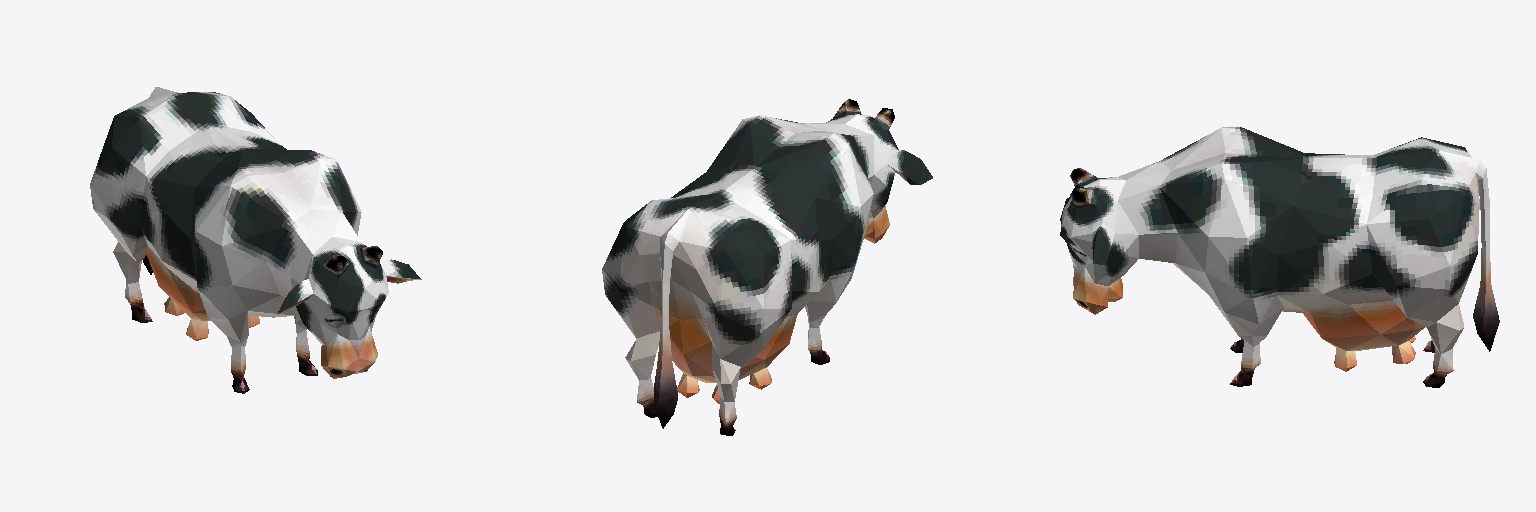
3 views of the same model, side by side, from view 1: azimuth 30°, elevation 25°; view 2: azimuth 150°, elevation 25°; view 3: azimuth 270°, elevation 25° (orthographic).
Parts seen in each view (by area): view 1: cow; view 2: cow; view 3: cow.
Part boxes in pixels (x1,y1,x2,y2): cow: (90,87,421,393); cow: (602,99,932,435); cow: (1060,127,1499,387).
Bounding box in the file's own units: 1.59 × 2.05 × 3.69.
Materials: 1 (1 with a texture image).